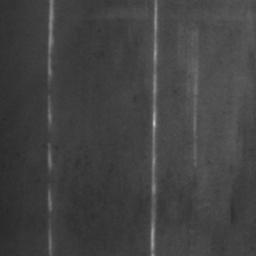Bright scratch: (151, 0, 159, 256), (47, 0, 55, 78), (47, 96, 54, 125), (47, 145, 52, 168), (49, 192, 54, 212), (49, 223, 52, 256)
